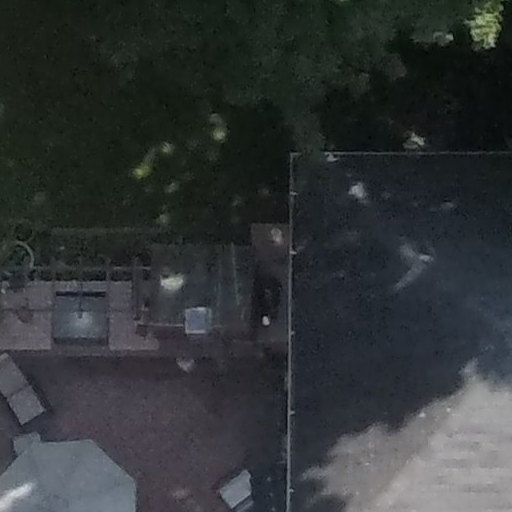container: (1, 237, 43, 275), (11, 218, 39, 243)
umbrella: (1, 423, 148, 510)
